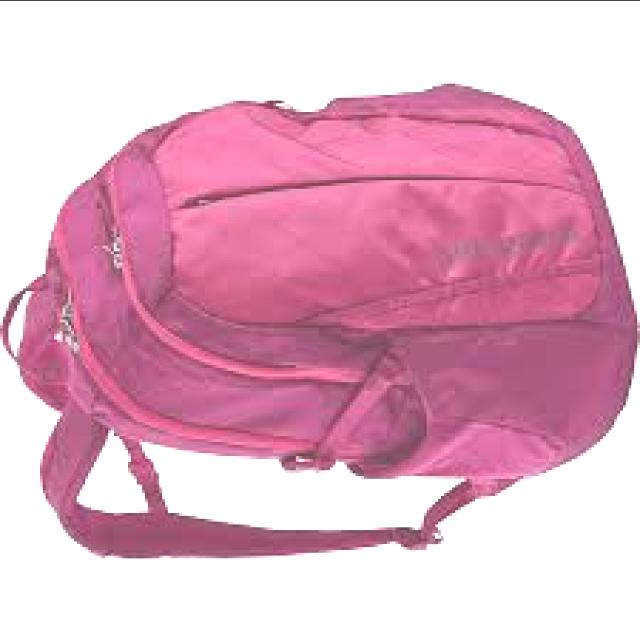backpack: (1, 84, 638, 564)
